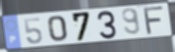0: (47, 15, 70, 43)
3: (96, 9, 117, 40)
5: (23, 17, 44, 45)
7: (70, 11, 92, 43)
9: (121, 7, 142, 38)
F: (143, 5, 166, 36)
